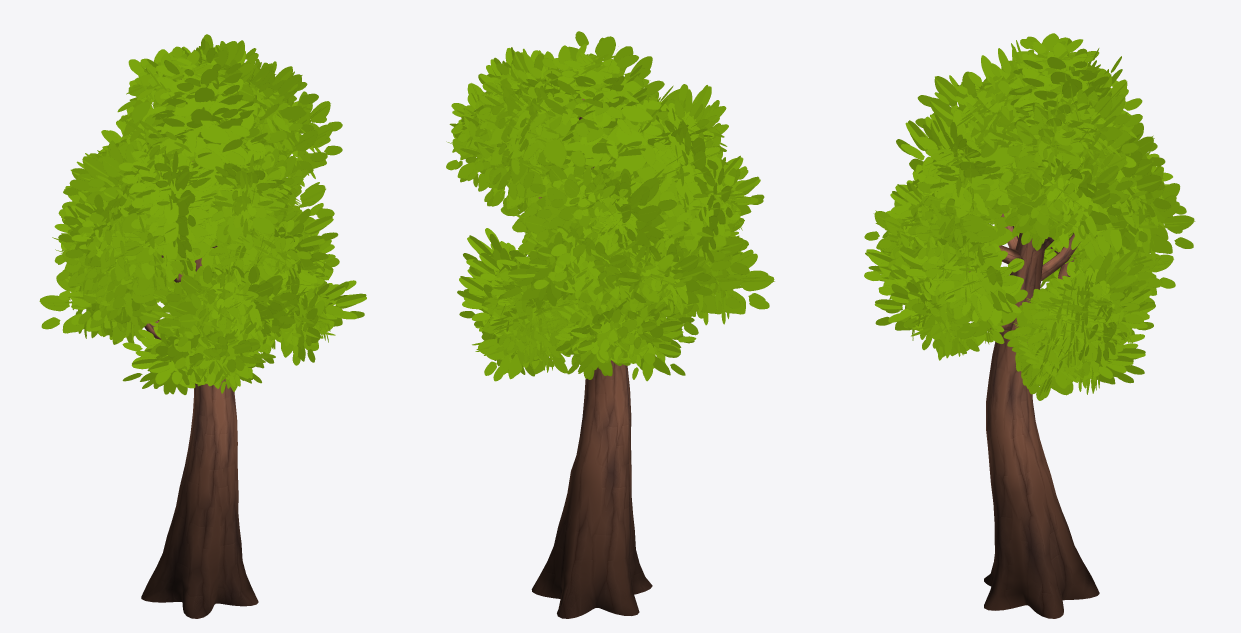
The model's file is CommonTree_1.glb.
3 renders of one model, left to right at view 1: azimuth 30°, elevation 25°; view 2: azimuth 150°, elevation 25°; view 3: azimuth 270°, elevation 25°, orthographic. The views are drawn at different scales.
Size of the model in its own units: 4.31 by 7.26 by 4.58.
2 materials, 2 textured.
